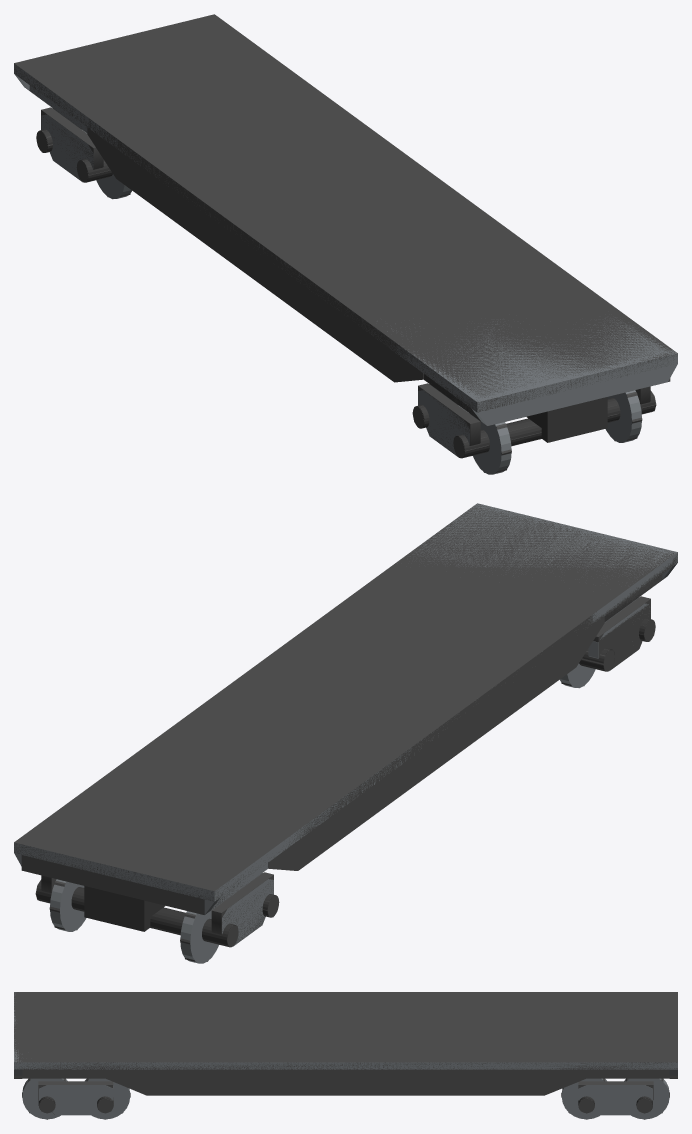
Rendered from LightGreyMetalMechLargeEmptyRailBed1.fbx.
The picture shows the model from 3 angles, top to bottom: view 1: azimuth 30°, elevation 25°; view 2: azimuth 150°, elevation 25°; view 3: azimuth 270°, elevation 25°; orthographic projection. The views are drawn at different scales.
Visible parts, largest first — view 1: COLObject4, LightGreyMetalMechLargeEmptyRailBed1, COLObject1, COLObject15, COLObject13; view 2: COLObject4, LightGreyMetalMechLargeEmptyRailBed1, COLObject1, COLObject2, COLObject15, COLObject13; view 3: COLObject4, COLObject1, LightGreyMetalMechLargeEmptyRailBed1, COLObject2, COLObject3, COLObject16, COLObject14.
Part boxes in pixels (x1,y1,x2,y2): COLObject4: (14, 14, 677, 412); LightGreyMetalMechLargeEmptyRailBed1: (14, 63, 677, 474); COLObject1: (87, 127, 423, 382); COLObject15: (418, 383, 480, 455); COLObject13: (41, 107, 103, 169); COLObject4: (14, 504, 677, 901); LightGreyMetalMechLargeEmptyRailBed1: (14, 503, 677, 963); COLObject1: (268, 616, 604, 870); COLObject2: (21, 855, 246, 914); COLObject15: (593, 596, 650, 669); COLObject13: (211, 872, 273, 944); COLObject4: (14, 992, 677, 1069); COLObject1: (105, 1069, 586, 1095); LightGreyMetalMechLargeEmptyRailBed1: (14, 992, 677, 1119); COLObject2: (586, 1069, 677, 1078); COLObject3: (14, 1069, 105, 1078); COLObject16: (38, 1081, 113, 1114); COLObject14: (578, 1081, 653, 1100).
Bounding box in the file's own units: 200 × 90.51 × 800.
3 materials, 2 textured.
